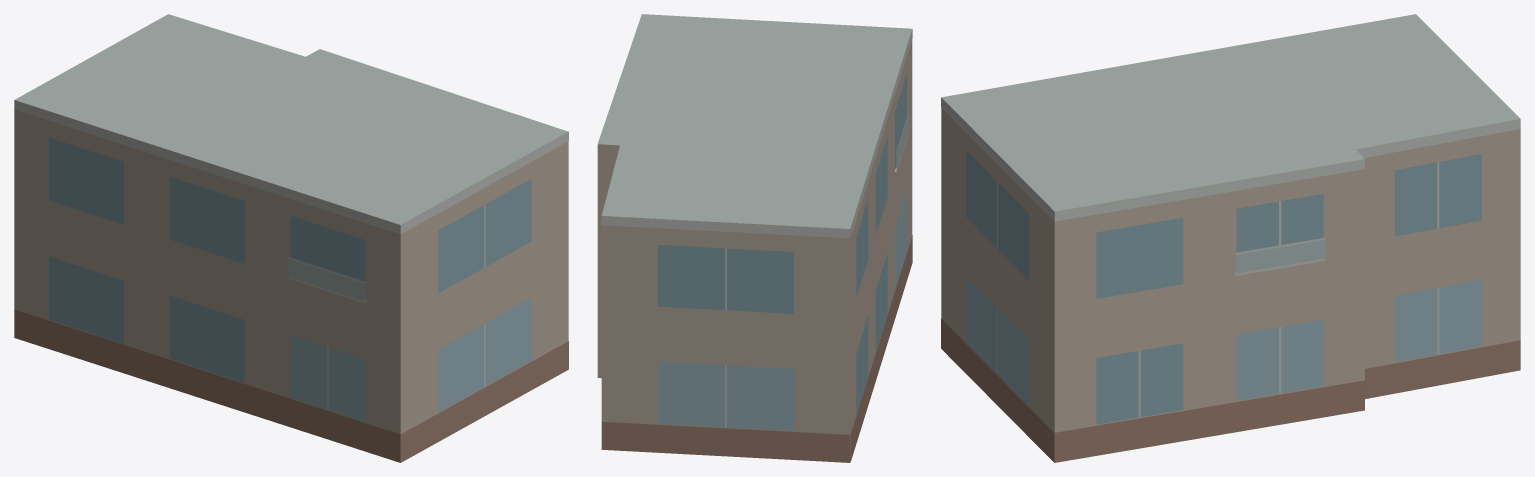
The model's file is survey-upis-32684182.glb.
The picture shows the model from 3 angles, left to right: view 1: azimuth 30°, elevation 25°; view 2: azimuth 150°, elevation 25°; view 3: azimuth 270°, elevation 25°; orthographic projection. The views are drawn at different scales.
Visible parts, largest first — view 1: survey-upis-32684182.tmp; view 2: survey-upis-32684182.tmp; view 3: survey-upis-32684182.tmp.
Part boxes in pixels (x1,y1,x2,y2): survey-upis-32684182.tmp: (14,14,568,462); survey-upis-32684182.tmp: (597,14,912,462); survey-upis-32684182.tmp: (941,14,1520,462).
Bounding box in the file's own units: 10.3 × 6.1 × 12.76.
